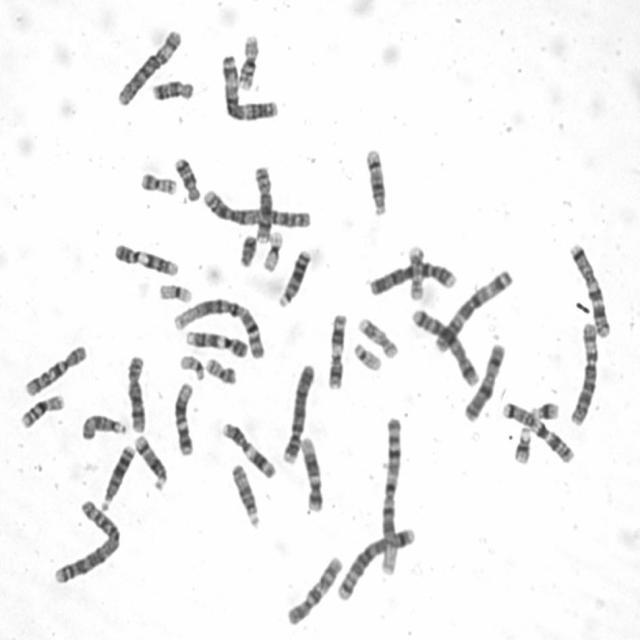A1: (168, 292, 268, 361), (376, 410, 404, 578)
A2: (48, 494, 123, 586), (198, 182, 313, 230)
A3: (430, 263, 514, 354), (216, 49, 280, 122)
B4: (278, 357, 316, 466), (366, 256, 458, 297)
B5: (332, 521, 417, 602), (407, 302, 481, 388)
C10: (282, 550, 345, 628), (20, 338, 89, 398)
C11: (216, 416, 278, 480), (322, 308, 348, 392)
C12: (296, 431, 325, 513), (169, 376, 196, 456)
C6: (112, 22, 183, 107), (565, 316, 600, 427)
C7: (498, 396, 576, 466), (564, 237, 612, 339)
C8: (122, 349, 148, 435), (249, 160, 274, 244)
C9: (108, 237, 180, 277), (181, 324, 249, 358)
D13: (96, 438, 136, 512), (274, 244, 312, 309)
D14: (130, 429, 169, 492), (361, 143, 388, 217)
D15: (226, 458, 262, 530), (76, 408, 128, 442)
E16: (15, 388, 66, 430), (234, 28, 261, 90)
E17: (354, 311, 399, 360), (403, 240, 428, 302)
E18: (170, 151, 202, 203), (147, 74, 196, 102)
F19: (258, 226, 284, 273), (154, 277, 194, 304)
F20: (201, 352, 239, 386), (136, 166, 178, 196)
G21: (509, 422, 534, 465), (527, 395, 561, 421)
G22: (349, 337, 383, 372), (176, 349, 207, 381)
X: (459, 338, 506, 423)
Y: (235, 229, 258, 268)
